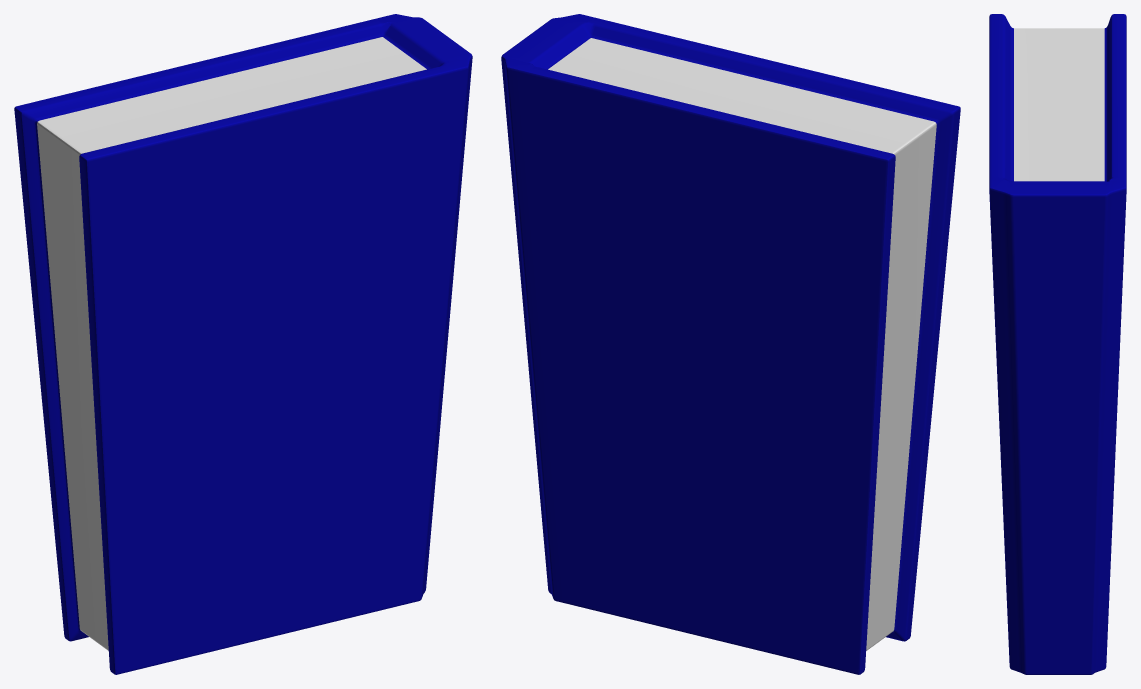
File: blue book.fbx
3 views of the same model, side by side, from view 1: azimuth 30°, elevation 25°; view 2: azimuth 150°, elevation 25°; view 3: azimuth 270°, elevation 25° (orthographic). The views are drawn at different scales.
Visible parts, largest first — view 1: book2; view 2: book2; view 3: book2.
Boxes of the visible parts, x1=… form: book2: x1=14, y1=14, x2=472, y2=674; book2: x1=501, y1=14, x2=960, y2=674; book2: x1=989, y1=14, x2=1126, y2=674.
Bounding box in the file's own units: 3.12 × 4.01 × 0.9981.
